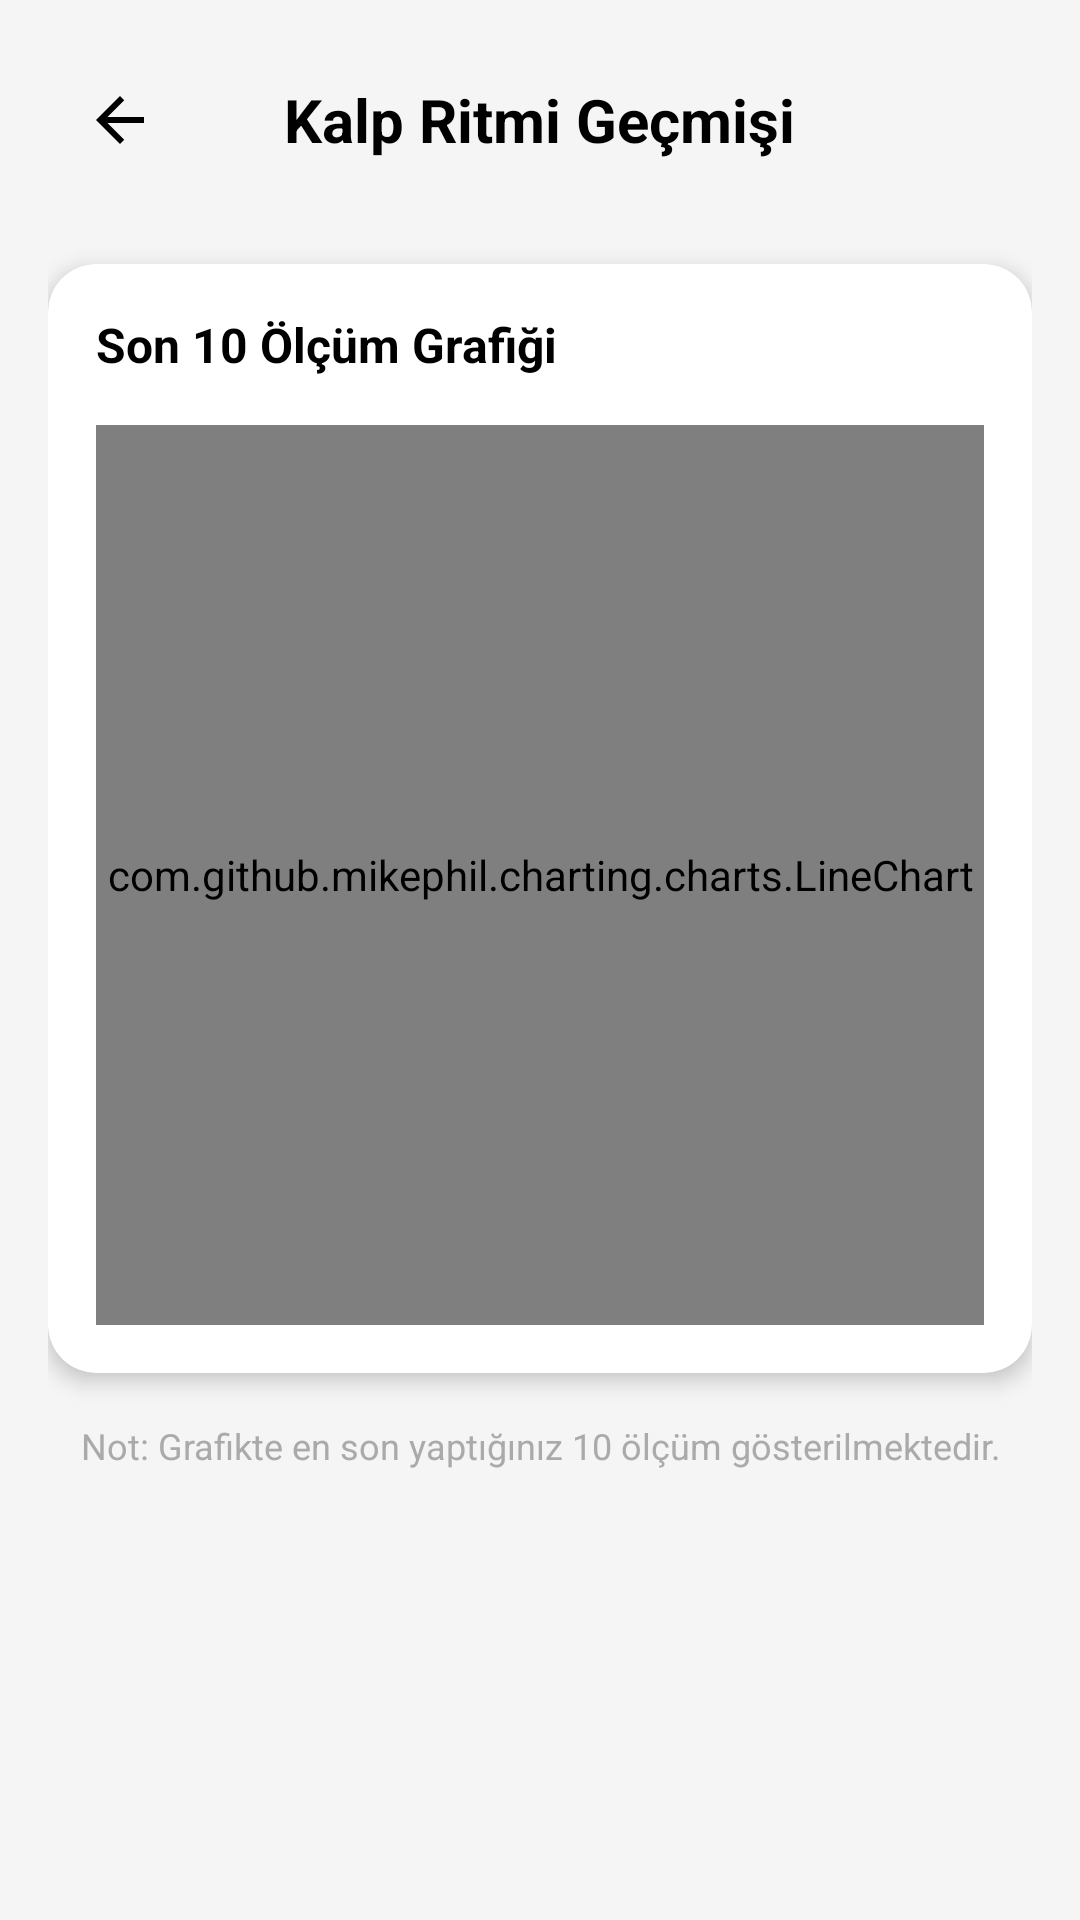

Icons on this 1080x1920 Android screen, each with the point to tap as (x,y):
Geri: (120,120)
